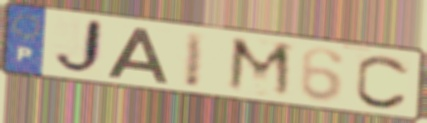6: (298, 46, 346, 104)
A: (104, 25, 171, 86)
C: (353, 53, 412, 111)
I: (182, 30, 208, 90)
J: (51, 17, 107, 78)
M: (224, 35, 295, 101)
